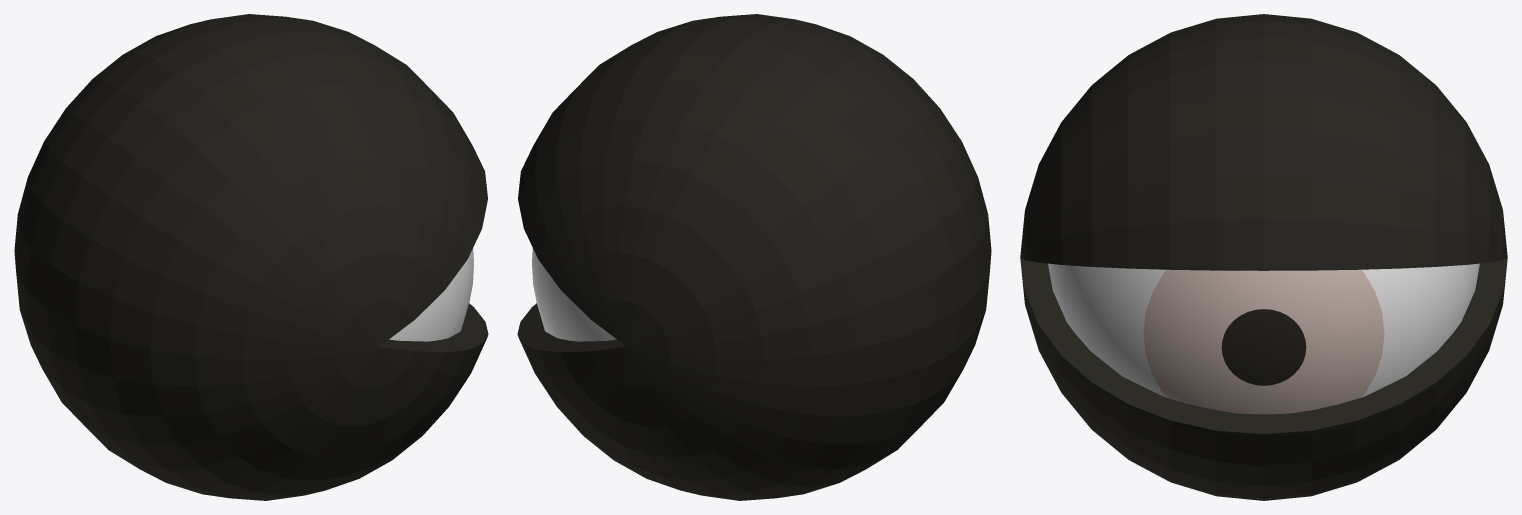
Rendered from eye.fbx.
3 views of the same model, side by side, from view 1: azimuth 30°, elevation 25°; view 2: azimuth 150°, elevation 25°; view 3: azimuth 270°, elevation 25° (orthographic).
Parts seen in each view (by area): view 1: eyelid, eyeball; view 2: eyelid, eyeball; view 3: eyelid, eyeball.
Boxes of the visible parts, x1=… form: eyelid: x1=14, y1=14, x2=488, y2=500; eyeball: x1=389, y1=248, x2=473, y2=341; eyelid: x1=517, y1=14, x2=991, y2=500; eyeball: x1=532, y1=248, x2=616, y2=341; eyelid: x1=1020, y1=14, x2=1507, y2=500; eyeball: x1=1048, y1=263, x2=1479, y2=414.
Bounding box in the file's own units: 193 × 200 × 200.
